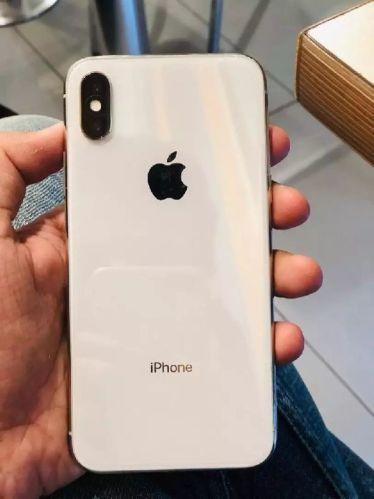Phone: (61, 54, 274, 473)
